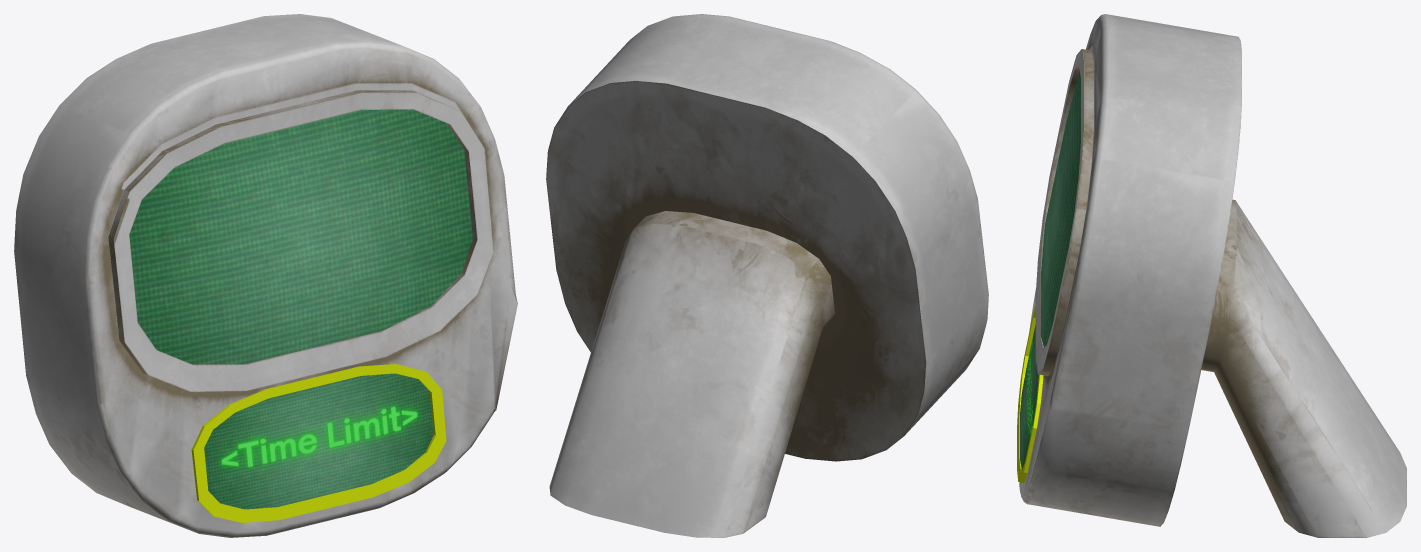
File: Timer.fbx
3 views of the same model, side by side, from view 1: azimuth 30°, elevation 25°; view 2: azimuth 150°, elevation 25°; view 3: azimuth 270°, elevation 25° (orthographic). The views are drawn at different scales.
Parts seen in each view (by area): view 1: Cube.010, Cube.012, Cube.014, Cube.013; view 2: Cube.010; view 3: Cube.010, Cube.012, Cube.014, Cube.013.
Boxes of the visible parts, x1,y1,x2,y2 form: Cube.010: (14,14,517,537); Cube.012: (129,109,472,364); Cube.014: (204,373,433,509); Cube.013: (191,364,446,522); Cube.010: (546,14,988,537); Cube.010: (1019,14,1406,537); Cube.012: (1041,72,1080,347); Cube.014: (1020,325,1038,469); Cube.013: (1017,306,1043,482).
Size of the model in its own units: 200 by 207 by 170.
Materials: 4 (3 with a texture image).
